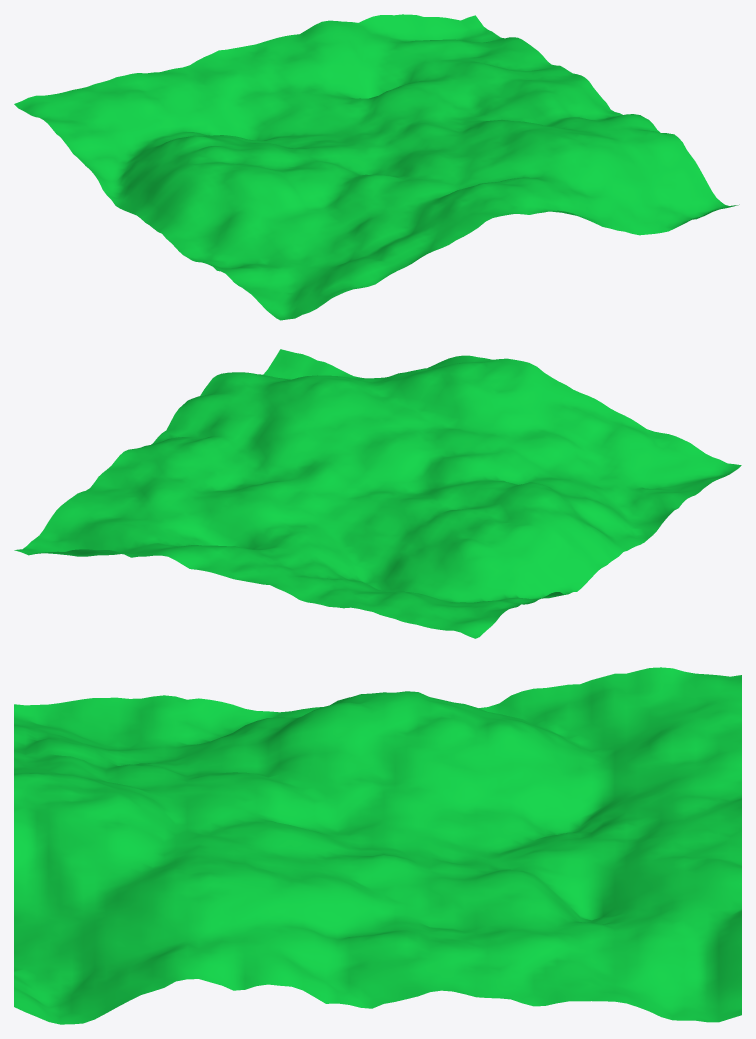
File: Landscape2.obj
3 views of the same model, one above another, from view 1: azimuth 30°, elevation 25°; view 2: azimuth 150°, elevation 25°; view 3: azimuth 270°, elevation 25° (orthographic). The views are drawn at different scales.
Parts seen in each view (by area): view 1: Landscape; view 2: Landscape; view 3: Landscape.
Part boxes in pixels (x1,y1,x2,y2): Landscape: [14, 14, 739, 320]; Landscape: [14, 349, 741, 638]; Landscape: [14, 667, 741, 1024].
Bounding box in the file's own units: 800 × 103 × 800.
1 material, 1 textured.
